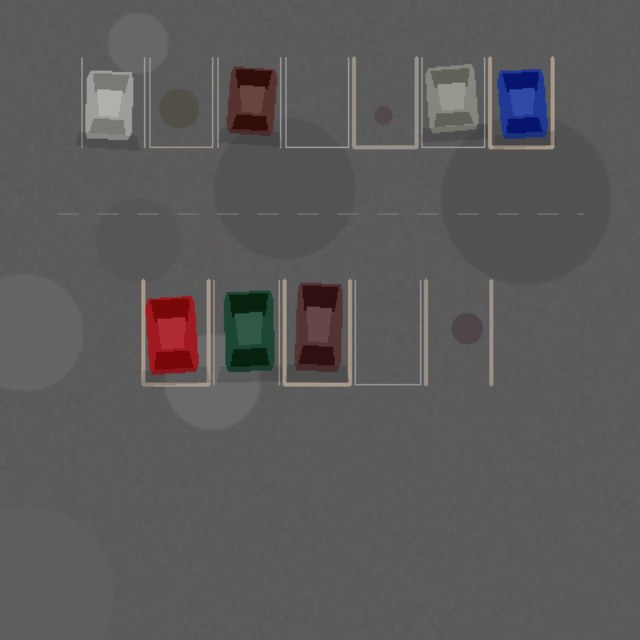space-empty: (425, 280, 491, 384), (355, 280, 420, 384), (149, 57, 212, 147), (285, 57, 348, 147), (353, 57, 416, 147)
space-occupied: (213, 280, 279, 384), (143, 280, 208, 384), (284, 280, 349, 384), (81, 57, 144, 147), (217, 57, 280, 147), (421, 57, 484, 147), (489, 57, 552, 147)
